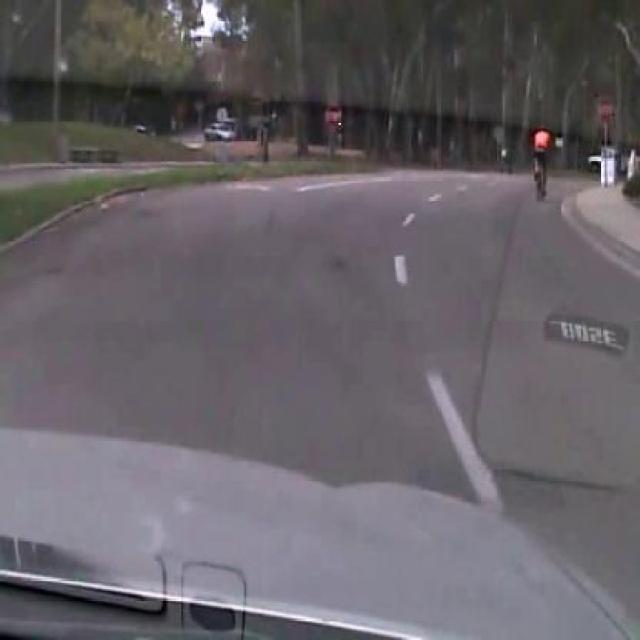stop: (594, 95, 614, 123), (325, 105, 343, 128)
